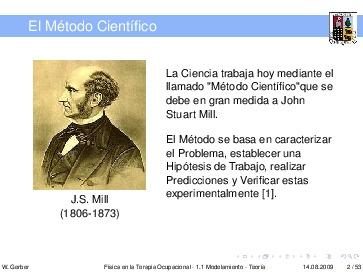paragraph: (163, 64, 357, 216)
title: (25, 14, 163, 36)
